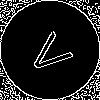V: (25, 25, 81, 79)
